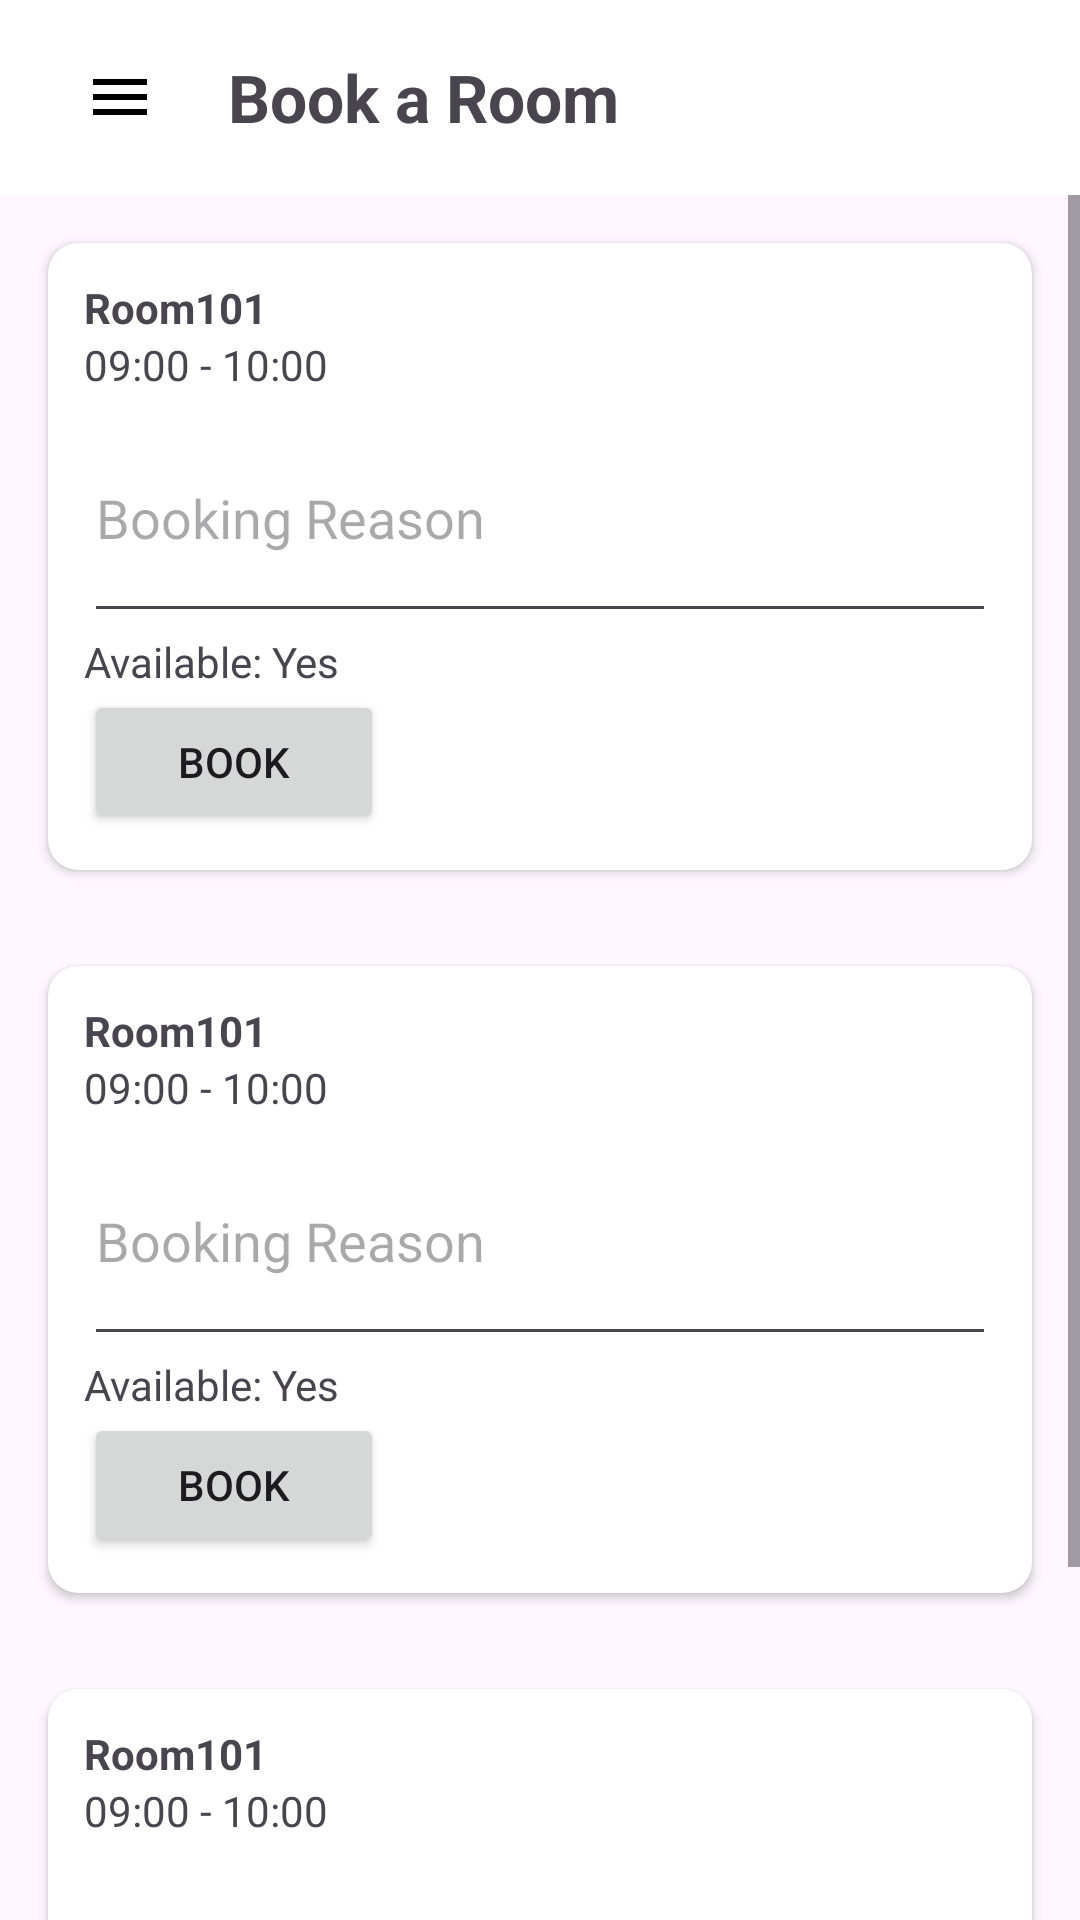

Where to tap for icons on this 1080*1920 app screen, as [x,y]:
menu: [120,97]
